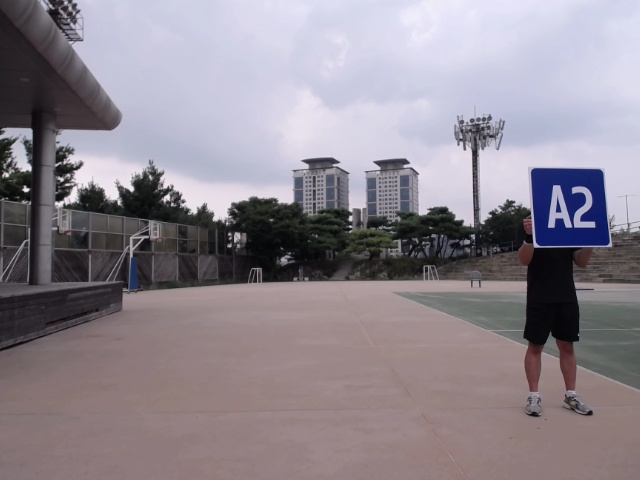delivery_a2: (530, 167, 612, 248)
